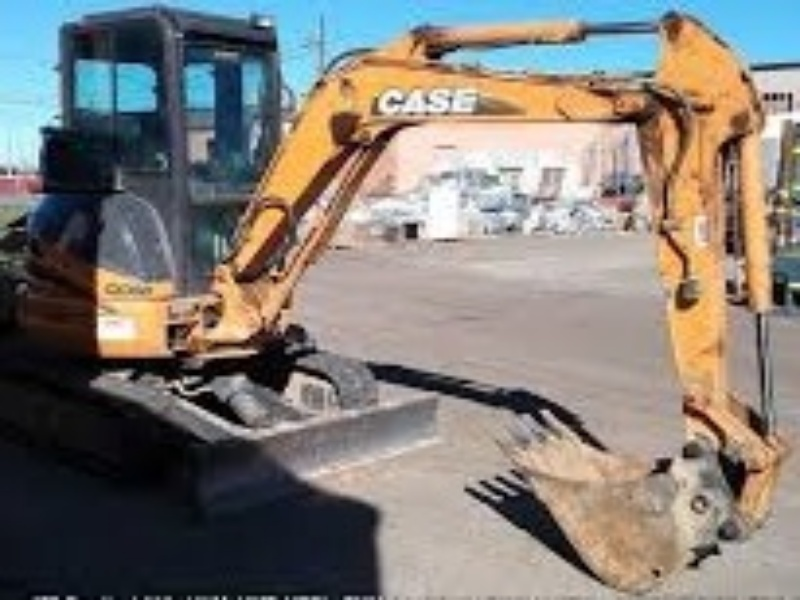wajueji: (6, 5, 512, 504)
